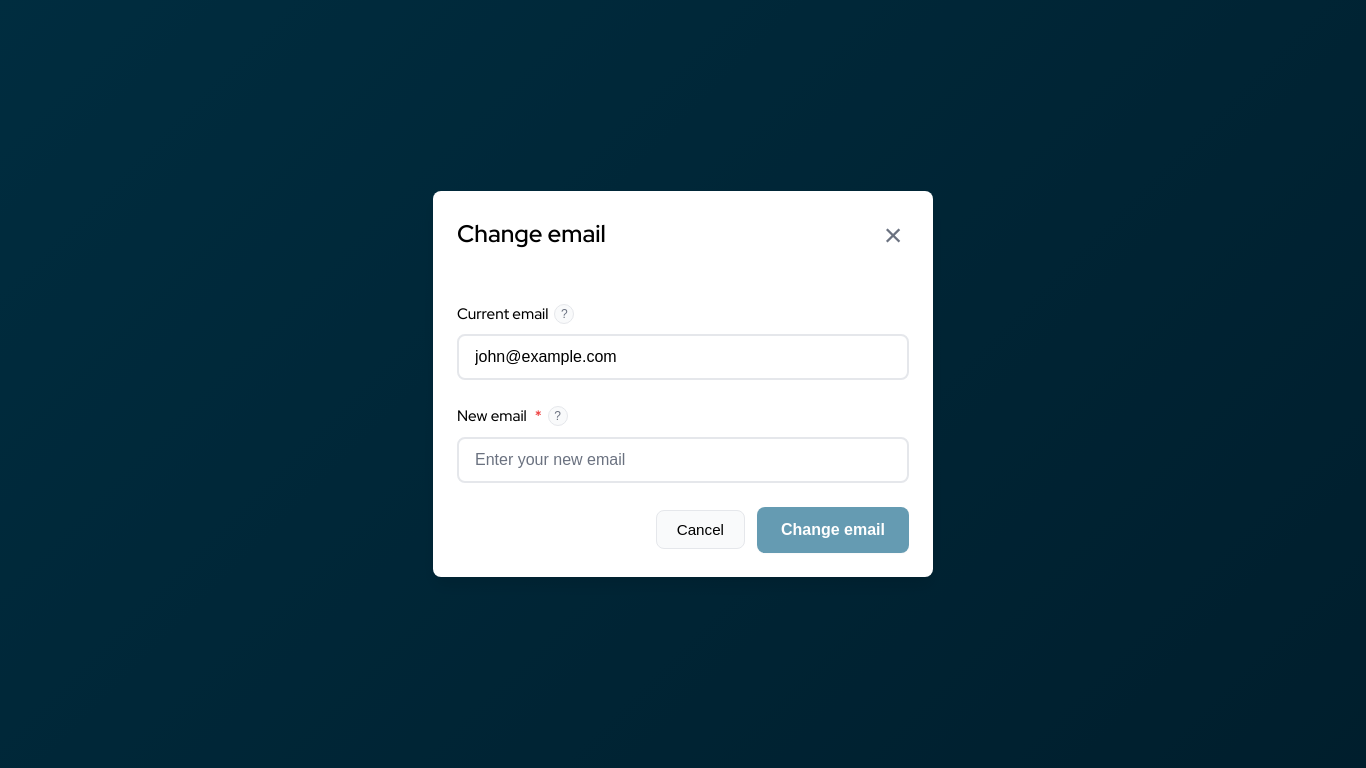
Scenario: ChangeEmailModal › should show success message after email is sent
Type "newemail@example.com" into the field with placeholder "Enter your new email" at (683, 460), box [457, 436, 909, 482]
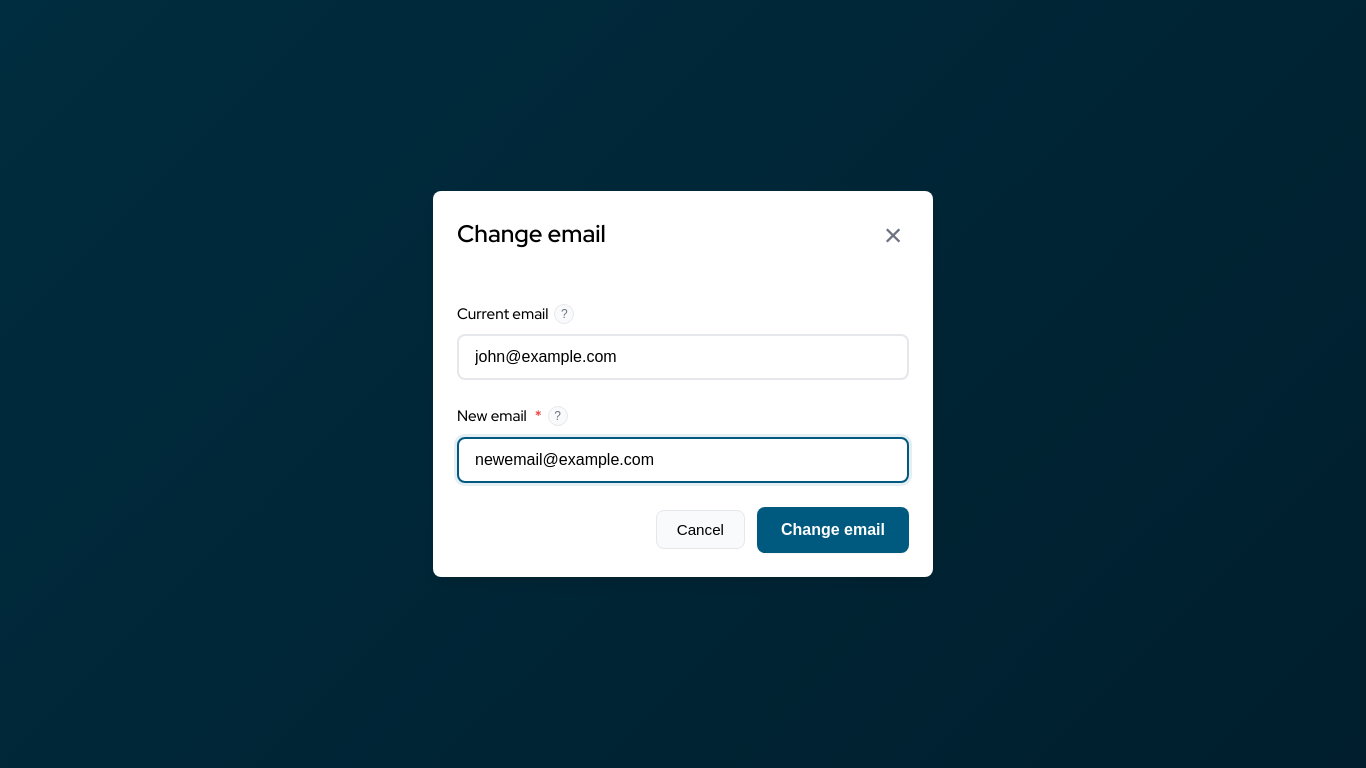
Click the button "Change email" at (833, 530), box [757, 506, 909, 552]
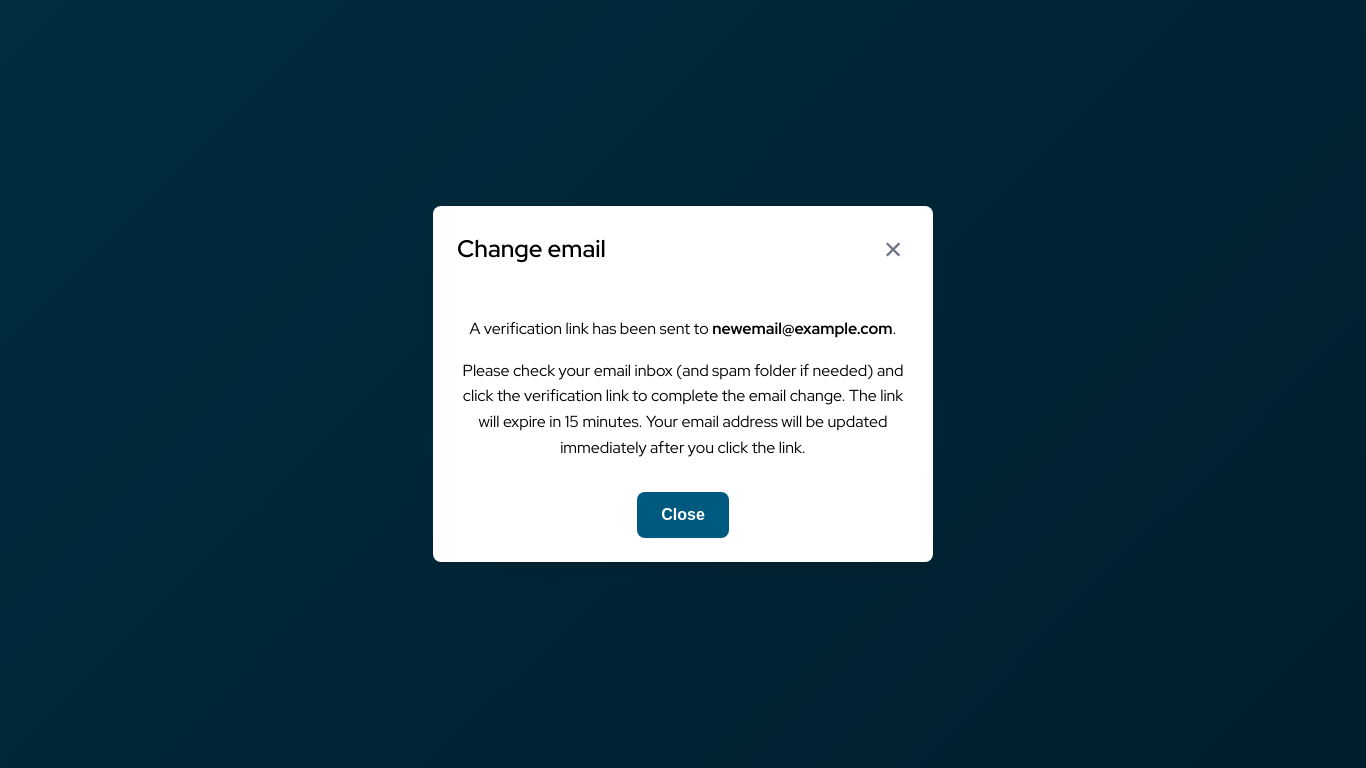
expect the text "A verification link has been sent to newemail@example.com." is shown: met, box [457, 316, 909, 342]
expect the text "newemail@example.com" is shown: met, box [712, 318, 892, 339]
